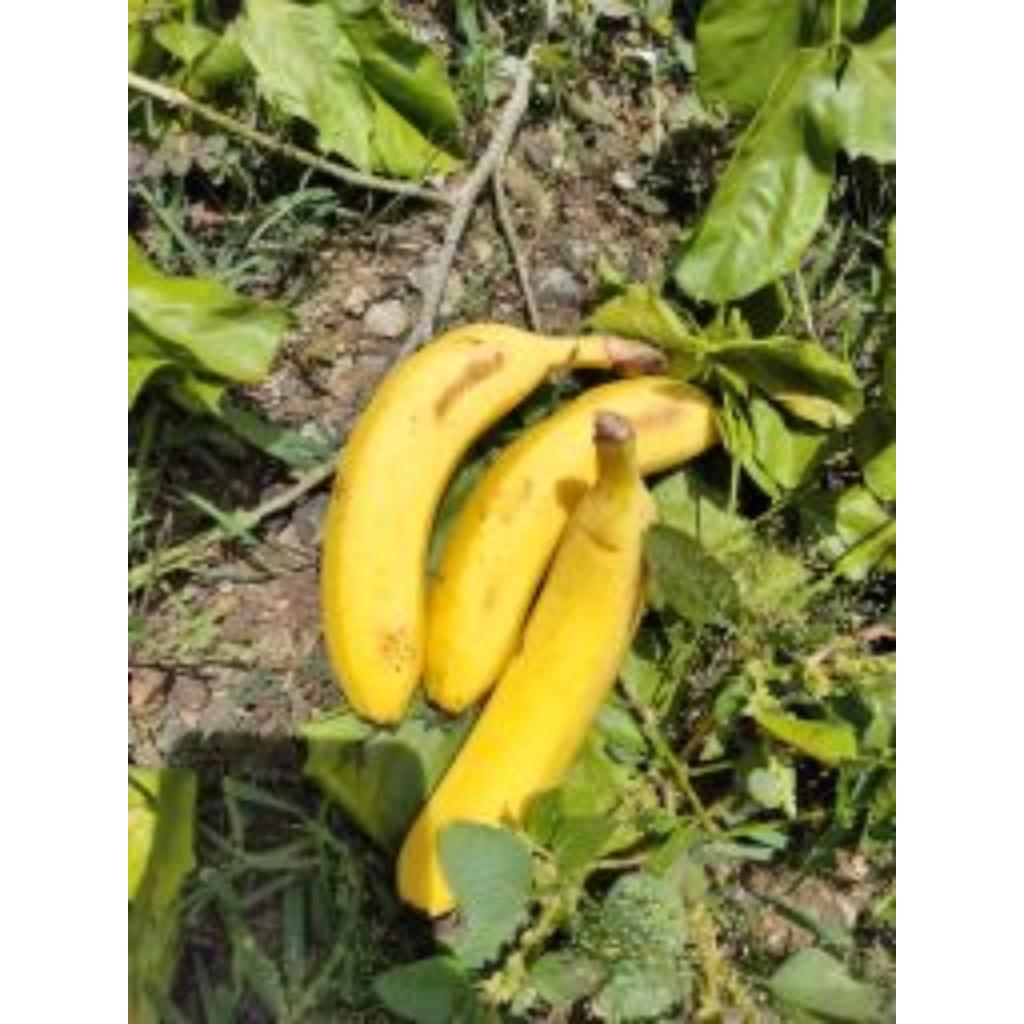banana: (402, 416, 652, 915), (322, 324, 577, 723), (426, 376, 714, 711)
